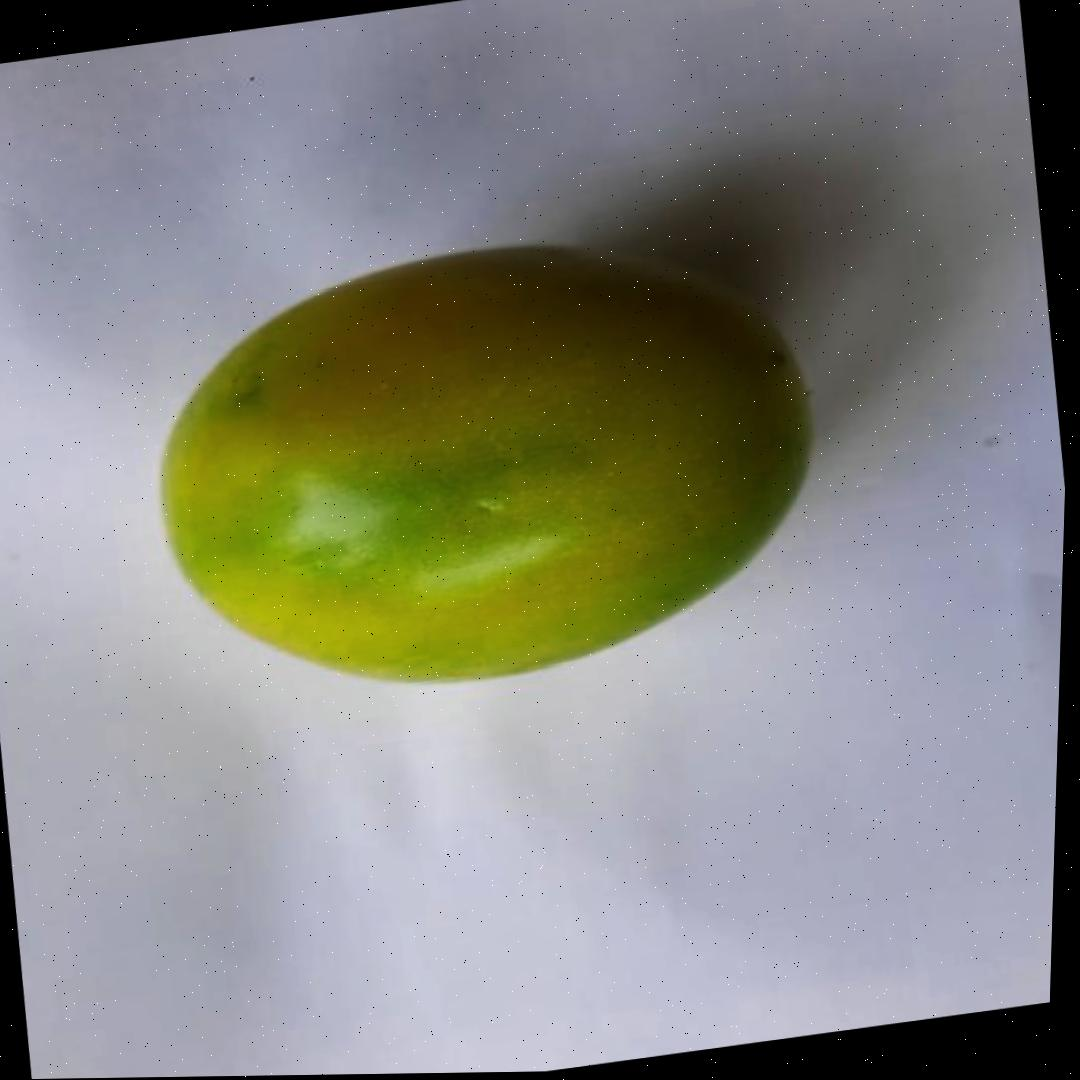setengah_matang: (121, 200, 849, 730)
